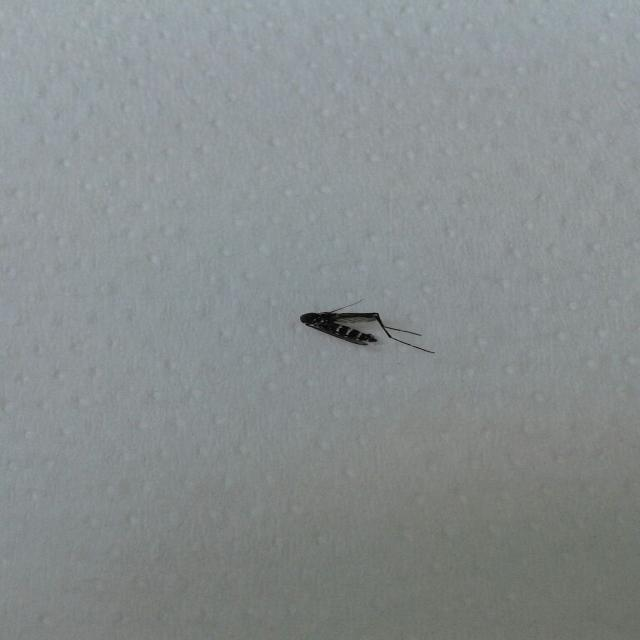albopictus: (290, 289, 434, 357)
